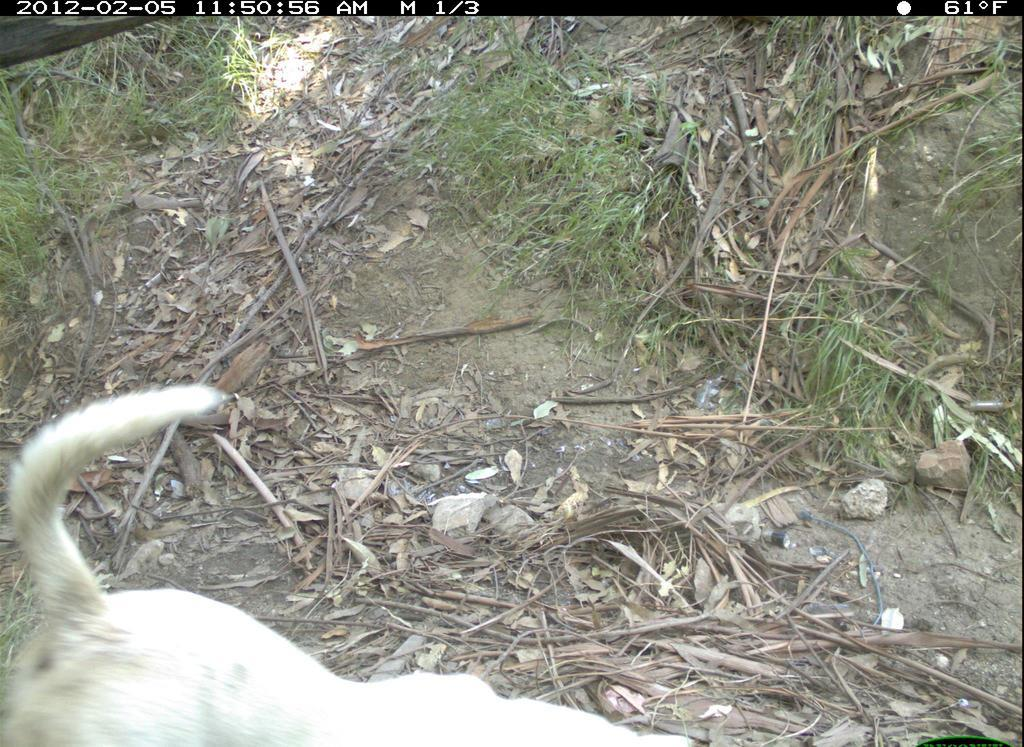dog: (3, 373, 716, 747)
